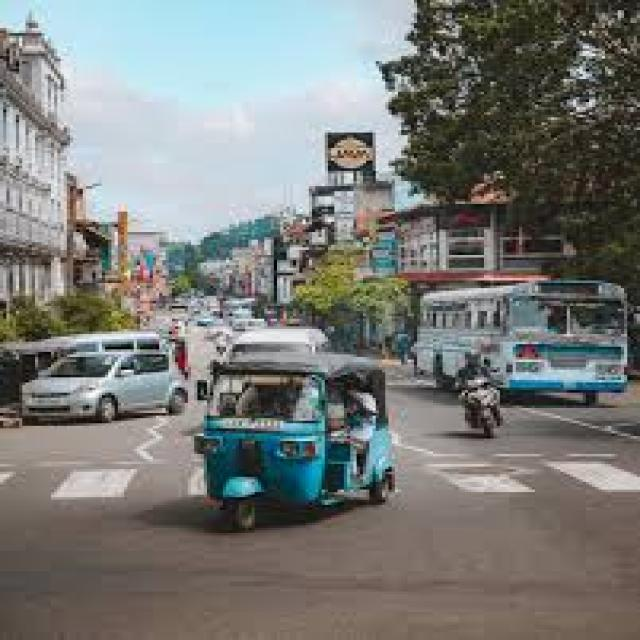bodaboda: (449, 336, 507, 462)
bus: (519, 258, 640, 436)
tuktuk: (180, 344, 422, 535)
